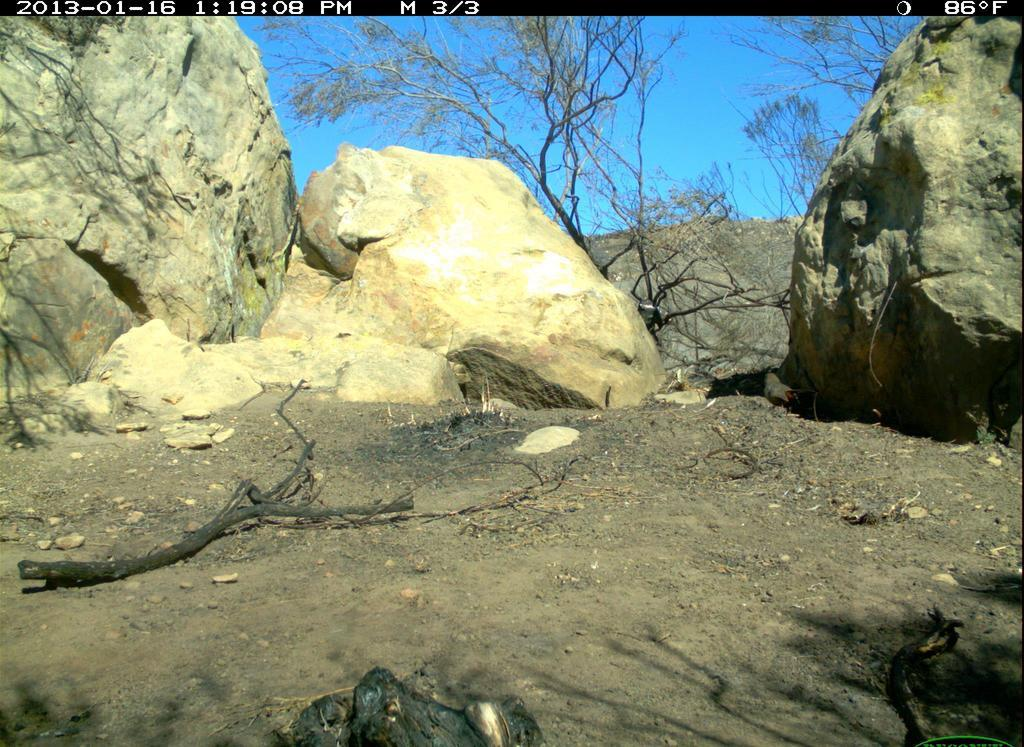bird: (761, 370, 822, 413)
